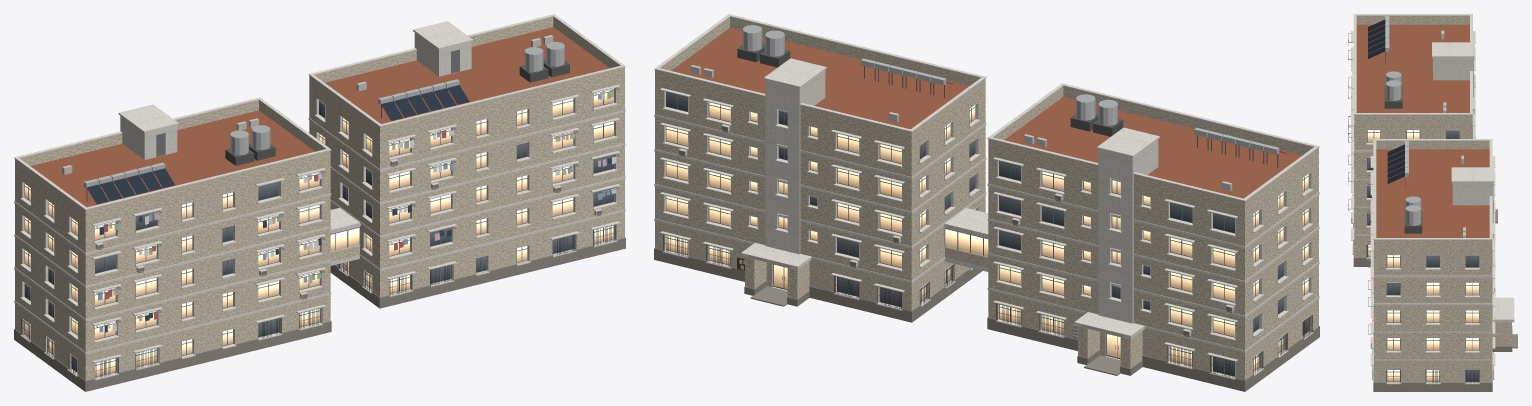
Rendered from campus_freshman.glb.
The picture shows the model from 3 angles, left to right: view 1: azimuth 30°, elevation 25°; view 2: azimuth 150°, elevation 25°; view 3: azimuth 270°, elevation 25°; orthographic projection. The views are drawn at different scales.
Parts seen in each view (by area): view 1: fd_wall, wz_vc_fd, fd_paint, fd_glass, fd_base; view 2: fd_wall, fd_paint, wz_vc_fd, fd_glass, fd_base; view 3: fd_wall, wz_vc_fd, fd_paint, fd_glass, fd_base.
Boxes of the visible parts, x1,y1,x2,y2 form: fd_wall: (15, 17, 624, 380); wz_vc_fd: (21, 27, 619, 378); fd_paint: (14, 14, 625, 380); fd_glass: (25, 88, 613, 376); fd_base: (14, 237, 625, 391); fd_wall: (655, 17, 1318, 380); fd_paint: (654, 14, 1319, 379); wz_vc_fd: (663, 25, 1312, 378); fd_glass: (666, 92, 1308, 375); fd_base: (654, 248, 1319, 391); fd_wall: (1354, 16, 1511, 382); wz_vc_fd: (1348, 16, 1495, 382); fd_paint: (1351, 14, 1514, 384); fd_glass: (1367, 130, 1478, 381); fd_base: (1353, 196, 1517, 391).
Bounding box in the file's own units: 54.4 × 18.75 × 17.22.
Materials: 7 (3 with a texture image).
